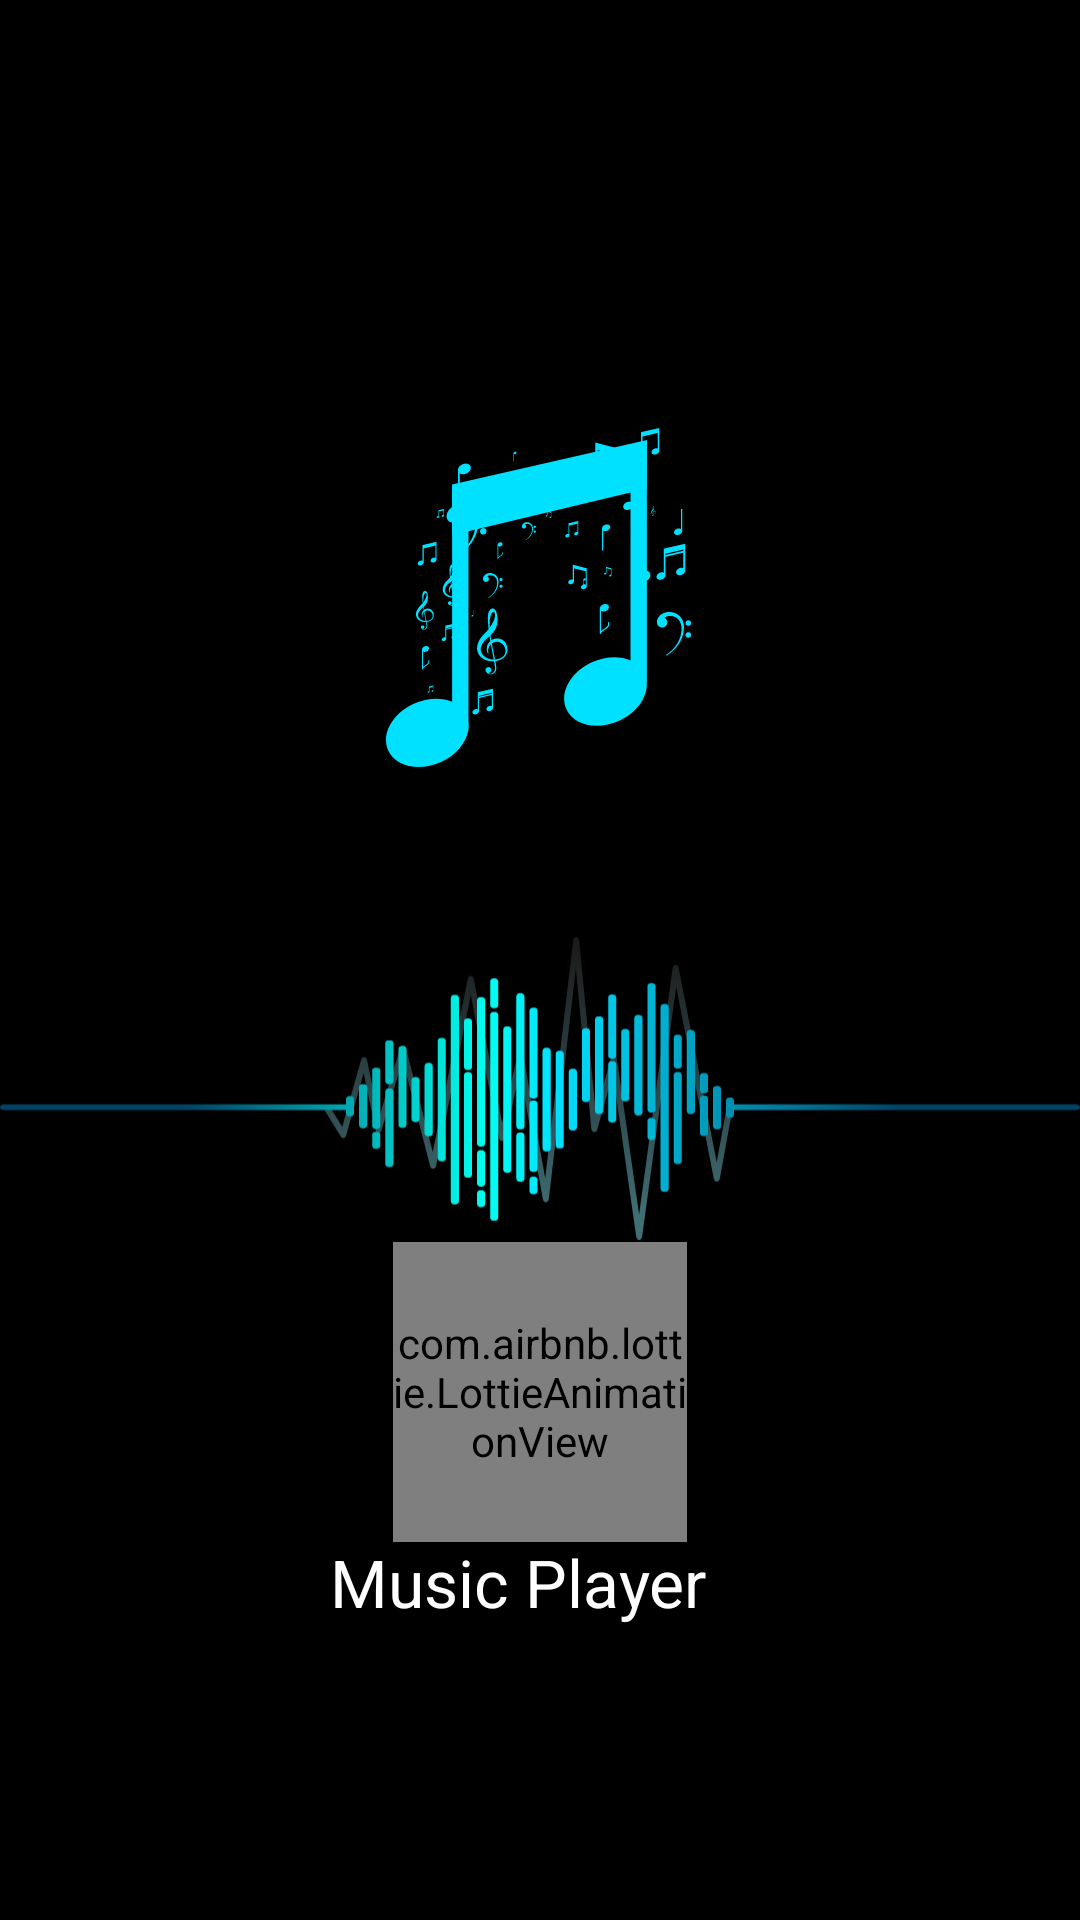

Where icons sit on this 1080×1920 app screen, as [x1=x1, y1=y1, x2=x2, y2=y2]:
musicicon: [x1=386, y1=428, x2=691, y2=767]
